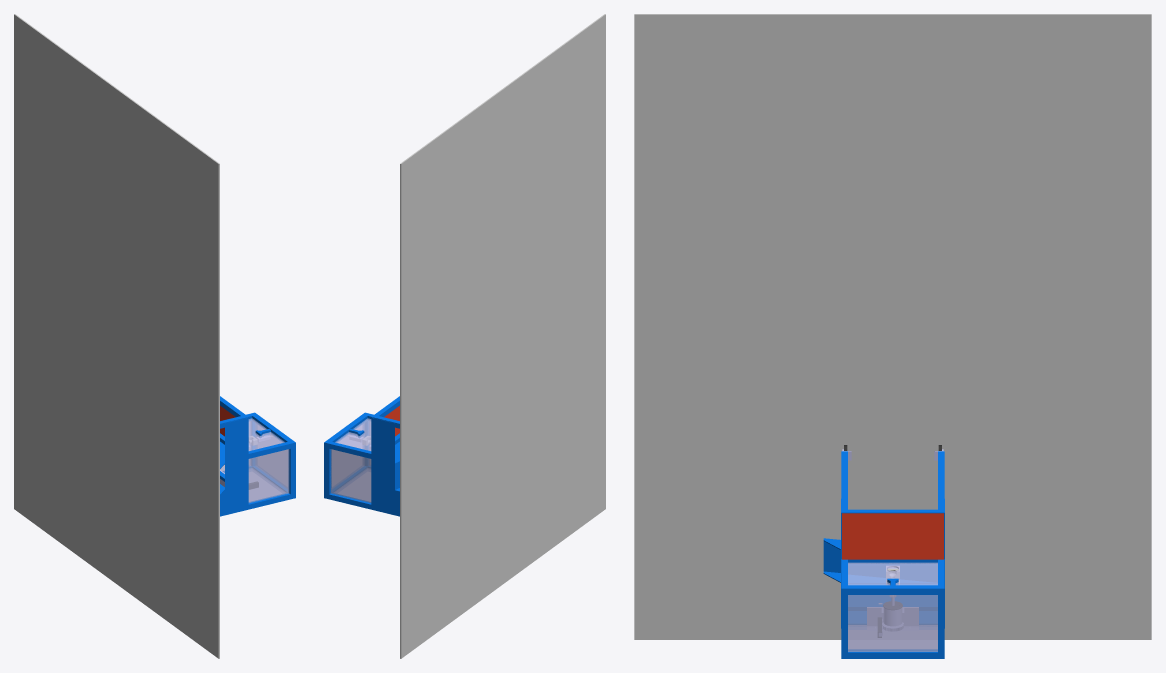
The model's file is Scene_Decarottage.gltf.
3 views of the same model, side by side, from view 1: azimuth 30°, elevation 25°; view 2: azimuth 150°, elevation 25°; view 3: azimuth 270°, elevation 25° (orthographic). The views are drawn at different scales.
Parts seen in each view (by area): view 1: plan-post1, support_decrottage001, Plaque_Lateral_decarotage, Plaque_haut_decarottage, Plaque_Frontale, Plaque_arriere_decarotage; view 2: plan-post1, support_decrottage001, Plaque_Lateral_decarotage001, Plaque_haut_decarottage, Plaque_arriere_decarotage, Plaque_Frontale; view 3: plan-post1, support_decrottage001, Plaque_haut_decarottage, Plaque_Frontale, Plaque_arriere_decarotage, support_moteur_decarotage.
Part boxes in pixels (left/top/right/bottom): plan-post1: left=14, top=14, right=219, bottom=658; support_decrottage001: left=220, top=396, right=295, bottom=516; Plaque_Lateral_decarotage: left=248, top=449, right=289, bottom=502; Plaque_haut_decarottage: left=256, top=425, right=287, bottom=487; Plaque_Frontale: left=248, top=418, right=284, bottom=450; Plaque_arriere_decarotage: left=249, top=469, right=285, bottom=501; plan-post1: left=400, top=14, right=605, bottom=658; support_decrottage001: left=324, top=396, right=399, bottom=516; Plaque_Lateral_decarotage001: left=330, top=449, right=371, bottom=502; Plaque_haut_decarottage: left=332, top=424, right=363, bottom=487; Plaque_arriere_decarotage: left=334, top=469, right=370, bottom=501; Plaque_Frontale: left=335, top=418, right=371, bottom=450; plan-post1: left=634, top=14, right=1151, bottom=639; support_decrottage001: left=823, top=451, right=944, bottom=658; Plaque_haut_decarottage: left=848, top=595, right=937, bottom=651; Plaque_Frontale: left=848, top=562, right=937, bottom=585; Plaque_arriere_decarotage: left=848, top=625, right=937, bottom=648; support_moteur_decarotage: left=867, top=601, right=918, bottom=637.
Bounding box in the file's own units: 1.35 × 4 × 3.
